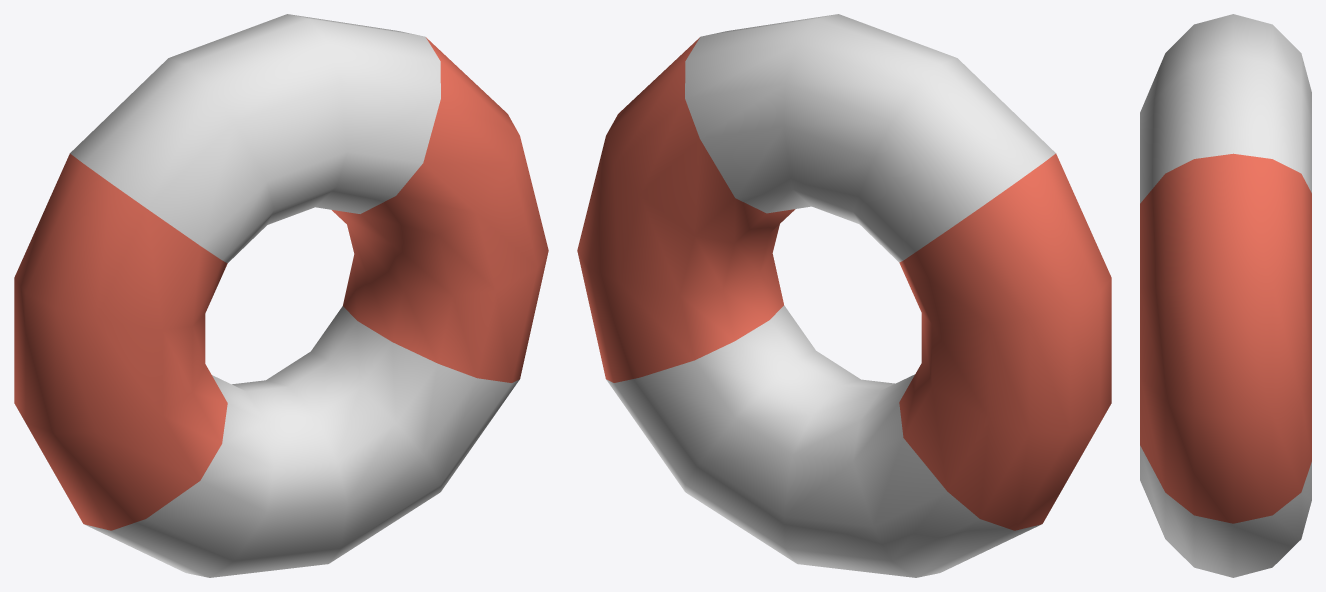
File: Lifebuoy.fbx
3 views of the same model, side by side, from view 1: azimuth 30°, elevation 25°; view 2: azimuth 150°, elevation 25°; view 3: azimuth 270°, elevation 25° (orthographic). The views are drawn at different scales.
Visible parts, largest first — view 1: Lifebuoy; view 2: Lifebuoy; view 3: Lifebuoy.
Boxes of the visible parts, left/top/right/bottom form: Lifebuoy: left=14, top=14, right=548, bottom=577; Lifebuoy: left=577, top=14, right=1111, bottom=577; Lifebuoy: left=1140, top=14, right=1311, bottom=577.
Bounding box in the file's own units: 4.15 × 4.18 × 1.27.
